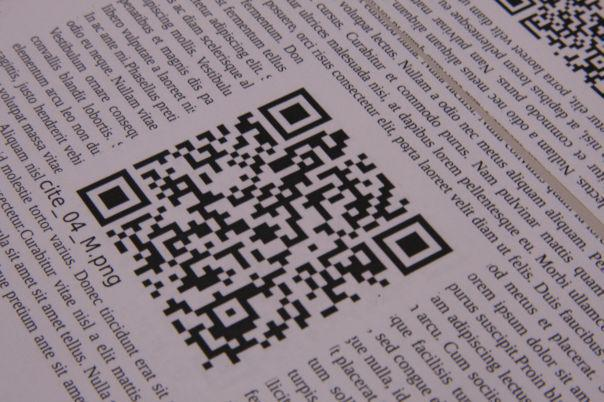Finder pattern: (374, 213, 453, 278), (76, 168, 151, 226), (256, 88, 332, 140)
